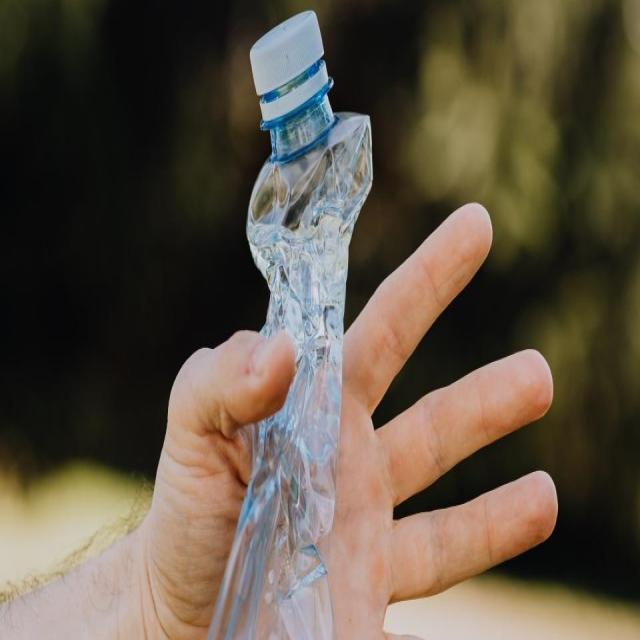plastic bottle: (204, 95, 376, 640)
plastic bottle cap: (249, 9, 328, 96)
